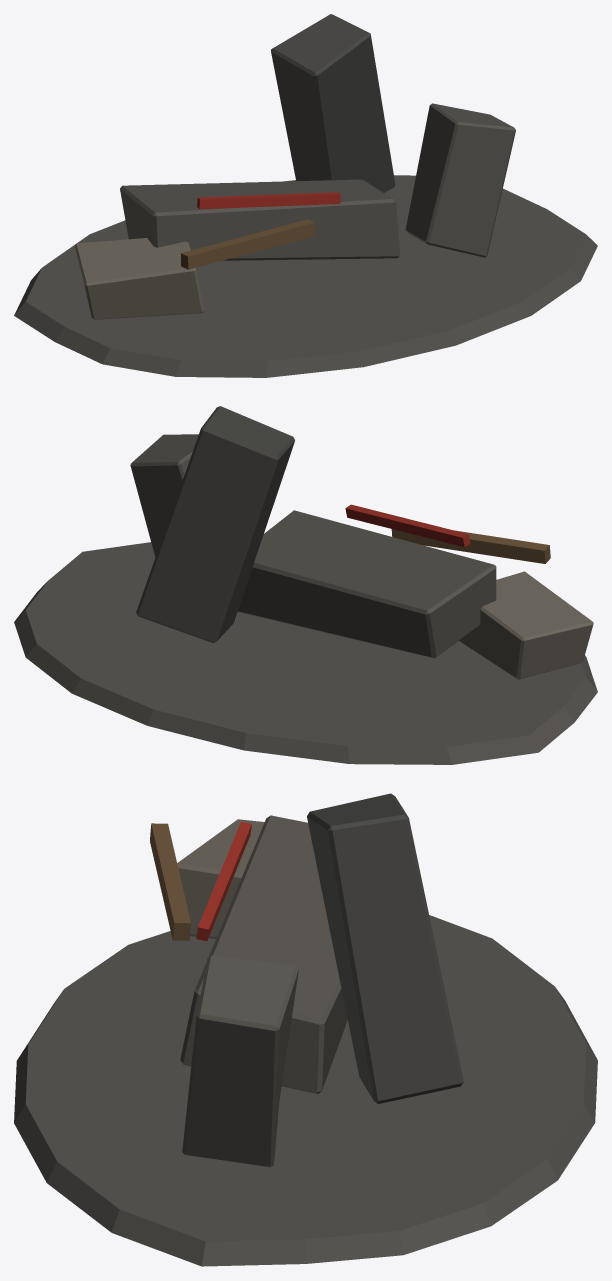
The model's file is SM_GIA_BloodAxeCairnSlabCluster_A01_LOD1.fbx.
The picture shows the model from 3 angles, top to bottom: view 1: azimuth 30°, elevation 25°; view 2: azimuth 150°, elevation 25°; view 3: azimuth 270°, elevation 25°; orthographic projection. The views are drawn at different scales.
Visible parts, largest first — view 1: LOD1_AshMudBase_Simplified, LOD1_Stone_PrimaryFallenSlab, LOD1_Stone_RearUprightMass, LOD1_Stone_RightLeanMass, LOD1_Stone_LeftLowMass, LOD1_RawhideWrap_BroadFrontBand, LOD1_BloodAxePaint_BroadSlash; view 2: LOD1_AshMudBase_Simplified, LOD1_Stone_PrimaryFallenSlab, LOD1_Stone_RearUprightMass, LOD1_Stone_LeftLowMass, LOD1_Stone_RightLeanMass, LOD1_RawhideWrap_BroadFrontBand, LOD1_BloodAxePaint_BroadSlash; view 3: LOD1_AshMudBase_Simplified, LOD1_Stone_RearUprightMass, LOD1_Stone_PrimaryFallenSlab, LOD1_Stone_RightLeanMass, LOD1_Stone_LeftLowMass, LOD1_RawhideWrap_BroadFrontBand, LOD1_BloodAxePaint_BroadSlash.
Part boxes in pixels (box(x1,y1,x2,y2)): LOD1_AshMudBase_Simplified: box(14, 175, 597, 377); LOD1_Stone_PrimaryFallenSlab: box(120, 179, 400, 260); LOD1_Stone_RearUprightMass: box(271, 14, 395, 192); LOD1_Stone_RightLeanMass: box(405, 103, 515, 257); LOD1_Stone_LeftLowMass: box(74, 238, 204, 319); LOD1_RawhideWrap_BroadFrontBand: box(181, 219, 314, 269); LOD1_BloodAxePaint_BroadSlash: box(197, 192, 340, 209); LOD1_AshMudBase_Simplified: box(14, 542, 597, 764); LOD1_Stone_PrimaryFallenSlab: box(237, 510, 496, 658); LOD1_Stone_RearUprightMass: box(136, 406, 294, 642); LOD1_Stone_LeftLowMass: box(458, 571, 593, 679); LOD1_Stone_RightLeanMass: box(130, 434, 198, 556); LOD1_RawhideWrap_BroadFrontBand: box(391, 529, 550, 563); LOD1_BloodAxePaint_BroadSlash: box(345, 504, 470, 547); LOD1_AshMudBase_Simplified: box(14, 915, 597, 1266); LOD1_Stone_RearUprightMass: box(307, 793, 463, 1103); LOD1_Stone_PrimaryFallenSlab: box(180, 815, 347, 1093); LOD1_Stone_RightLeanMass: box(182, 955, 298, 1167); LOD1_Stone_LeftLowMass: box(177, 819, 264, 938); LOD1_RawhideWrap_BroadFrontBand: box(150, 823, 190, 940); LOD1_BloodAxePaint_BroadSlash: box(196, 821, 251, 941).
Size of the model in its own units: 20681 by 29273 by 12435.
